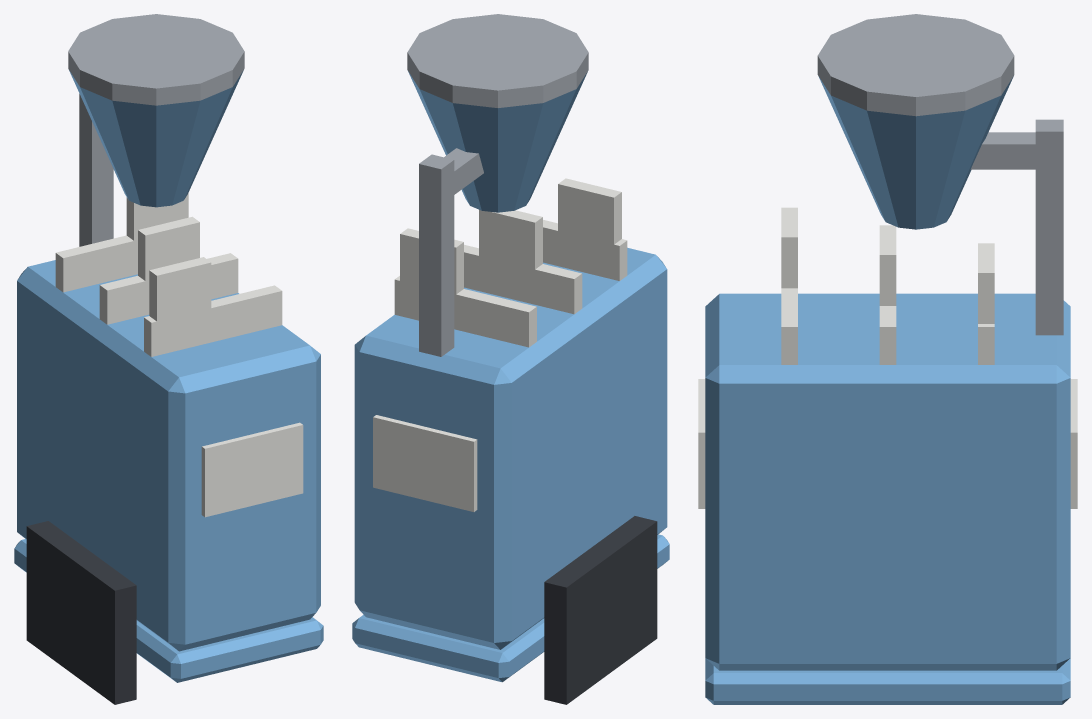
File: autoreply_m1_2.glb
3 renders of one model, left to right at view 1: azimuth 30°, elevation 25°; view 2: azimuth 150°, elevation 25°; view 3: azimuth 270°, elevation 25°, orthographic. The views are drawn at different scales.
Parts seen in each view (by area): view 1: autoreply_m1_2_mesh; view 2: autoreply_m1_2_mesh; view 3: autoreply_m1_2_mesh.
Part boxes in pixels (bbox=[...]): autoreply_m1_2_mesh: bbox=[14, 14, 323, 704]; autoreply_m1_2_mesh: bbox=[352, 14, 669, 704]; autoreply_m1_2_mesh: bbox=[698, 14, 1077, 704].
Size of the model in its own units: 0.16 by 0.515 by 0.27.
